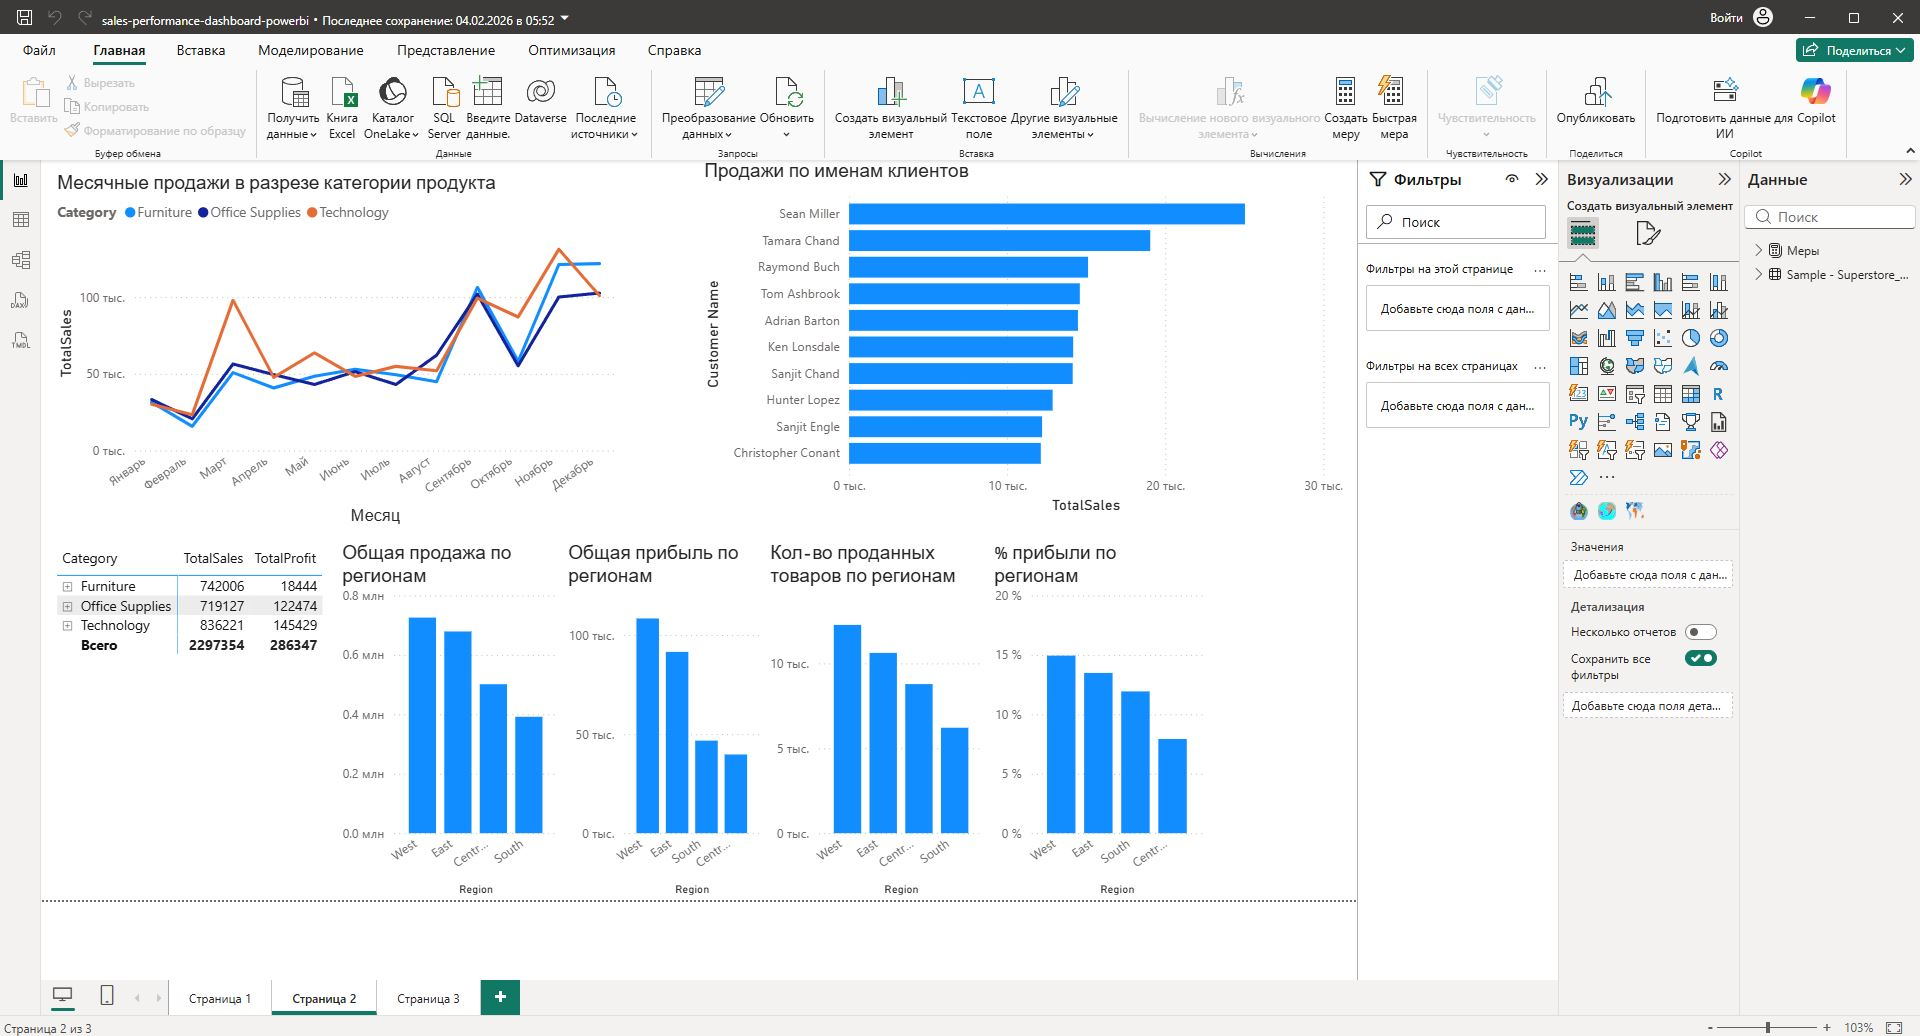

What the dashboard file says about the page in this screenshot:
{"tool":"powerbi","page":{"name":"Страница 2","canvas":[1280,720],"ordinal":1},"visuals":[{"type":"lineChart","title":"Месячные продажи в разрезе категории продукта","fields":{"Category":["Sample - Superstore_Orders.Order Date.Изменение.Иерархия дат.Месяц"],"Series":["Sample - Superstore_Orders.Category"],"Y":["Меры.TotalSales"]},"box":[10.7,11.7,553.4,348.2],"z":0},{"type":"pivotTable","fields":{"Rows":["Sample - Superstore_Orders.Category","Sample - Superstore_Orders.Product Name"],"Values":["Меры.TotalSales","Меры.TotalProfit"]},"box":[10.7,371.6,277.2,348.2],"z":1},{"type":"clusteredBarChart","title":"Продажи по именам клиентов","fields":{"Category":["Sample - Superstore_Orders.Customer Name"],"Y":["Меры.TotalSales"]},"box":[640,0,631.2,348.2],"z":2},{"type":"clusteredColumnChart","title":"Общая продажа по регионам","fields":{"Category":["Sample - Superstore_Orders.Region"],"Y":["Меры.TotalSales"]},"box":[287.9,371.6,219.8,348.2],"z":3},{"type":"clusteredColumnChart","title":"Общая прибыль по регионам","fields":{"Category":["Sample - Superstore_Orders.Region"],"Y":["Меры.TotalProfit"]},"box":[507.7,371.6,196.5,348.2],"z":4},{"type":"clusteredColumnChart","title":"Кол-во проданных товаров по регионам","fields":{"Category":["Sample - Superstore_Orders.Region"],"Y":["Меры.TotalQuantity"]},"box":[704.2,371.6,217.9,348.2],"z":5},{"type":"clusteredColumnChart","title":"% прибыли по регионам","fields":{"Category":["Sample - Superstore_Orders.Region"],"Y":["Меры.Profit ratio"]},"box":[922.1,371.6,213,348.2],"z":6}]}

Visuals, with their boxes on the page's 1280x720 design canvas (x1, y1, x2, y2). These are canvas units, not pixel positions in the 1920x1036 screenshot, which may show the page scaled, cropped or inside an application window:
"Месячные продажи в разрезе категории продукта" lineChart: [11, 12, 564, 360]
pivotTable - Sample - Superstore_Orders.Category x Sample - Superstore_Orders.Product Name: [11, 372, 288, 720]
"Продажи по именам клиентов" clusteredBarChart: [640, 0, 1271, 348]
"Общая продажа по регионам" clusteredColumnChart: [288, 372, 508, 720]
"Общая прибыль по регионам" clusteredColumnChart: [508, 372, 704, 720]
"Кол-во проданных товаров по регионам" clusteredColumnChart: [704, 372, 922, 720]
"% прибыли по регионам" clusteredColumnChart: [922, 372, 1135, 720]
